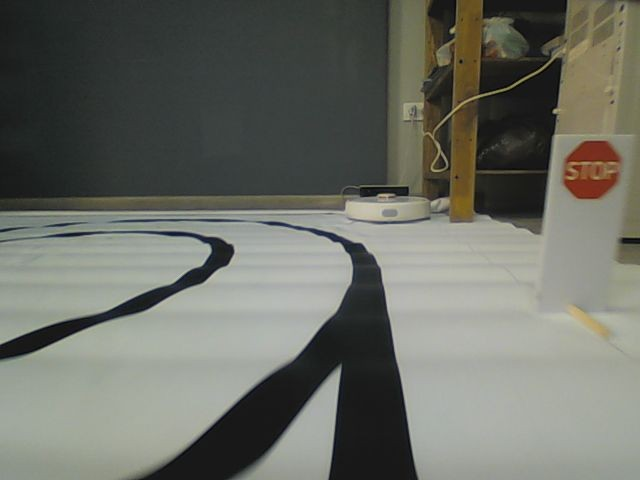Stop: (563, 138, 623, 202)
